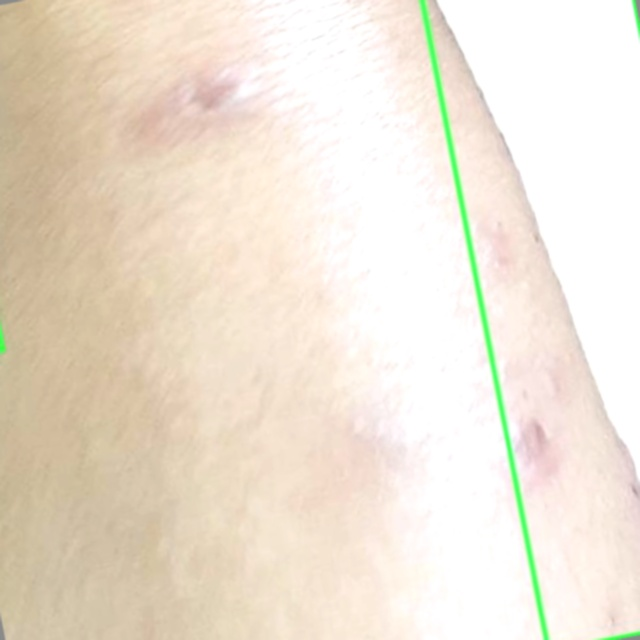Eczema: (422, 0, 639, 639)
